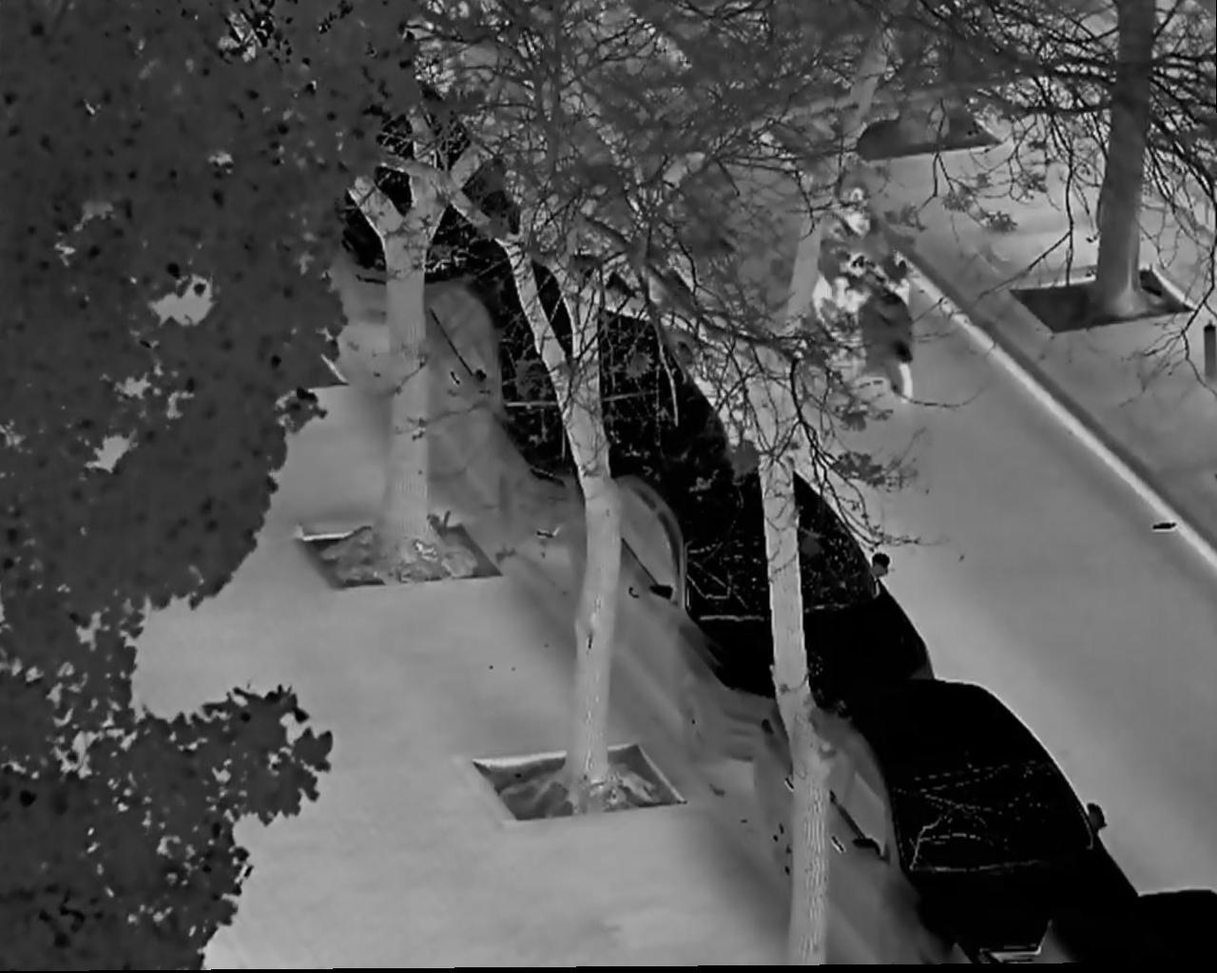person: (820, 182, 913, 341)
